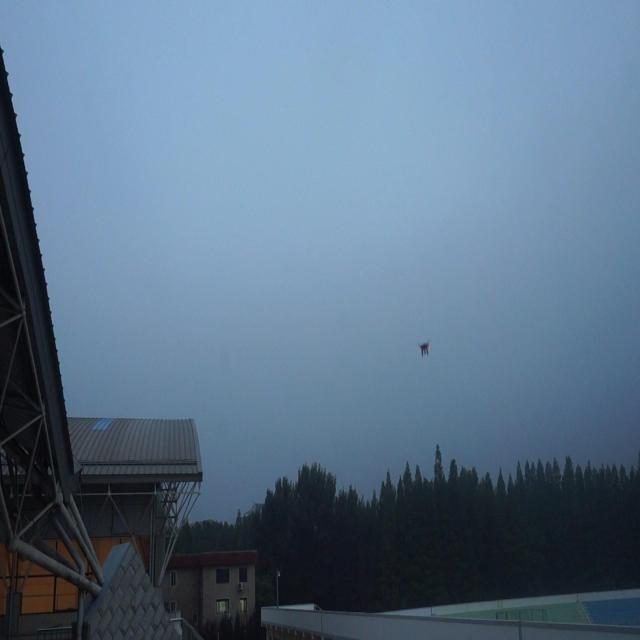drone: (417, 340, 432, 357)
